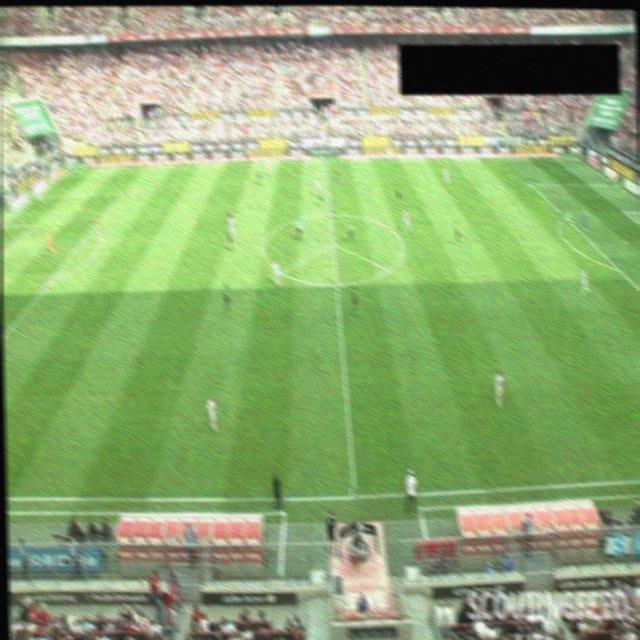bigarea_top_inner: (525, 177, 538, 188), (117, 188, 128, 198)
bigarea_top_outter: (607, 177, 620, 188), (30, 193, 44, 201)
bottom_arc_area_intersection: (39, 277, 54, 290), (611, 263, 623, 274)
corner: (62, 165, 77, 175), (571, 152, 583, 164)
halfcircle_bottom: (330, 278, 343, 290)
halfcircle_top: (324, 209, 336, 220)
midline_bottom_intersection: (348, 487, 363, 504)
midline_top_intersection: (319, 155, 332, 167)
smallarea_top_inner: (619, 205, 631, 216), (27, 220, 38, 231)
smallarea_top_outter: (1, 219, 7, 231)
top_arc_area_intersection: (87, 219, 100, 233), (559, 211, 571, 222)
